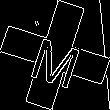M_N: (25, 24, 85, 86)
